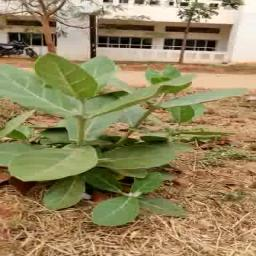CALOTROPIS: (0, 49, 232, 221)
